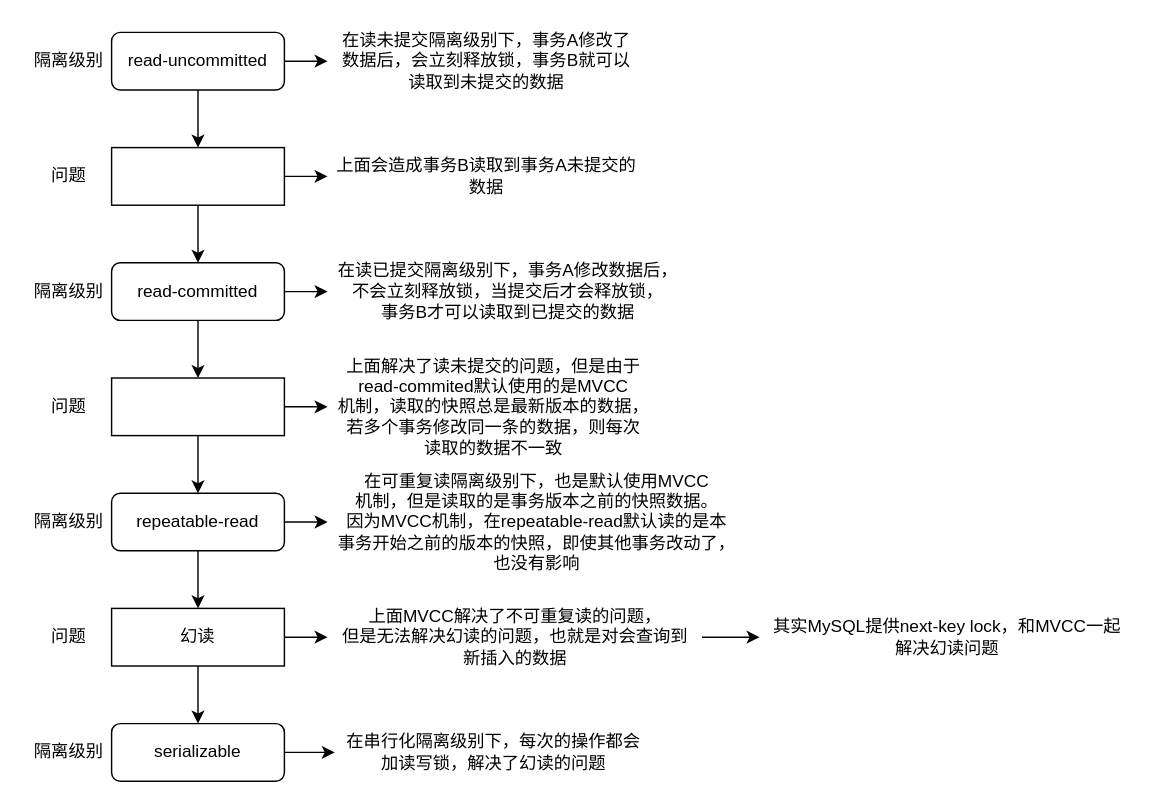
The diagram is 1158 pixels wide and 806 high, and some of its shapes have lost their labels. The shapes that lost their labels are listed below. From the top down, each one's centre as x and y in pixels, then its label:
point 197,175: 脏读
point 197,406: 不可重复读
